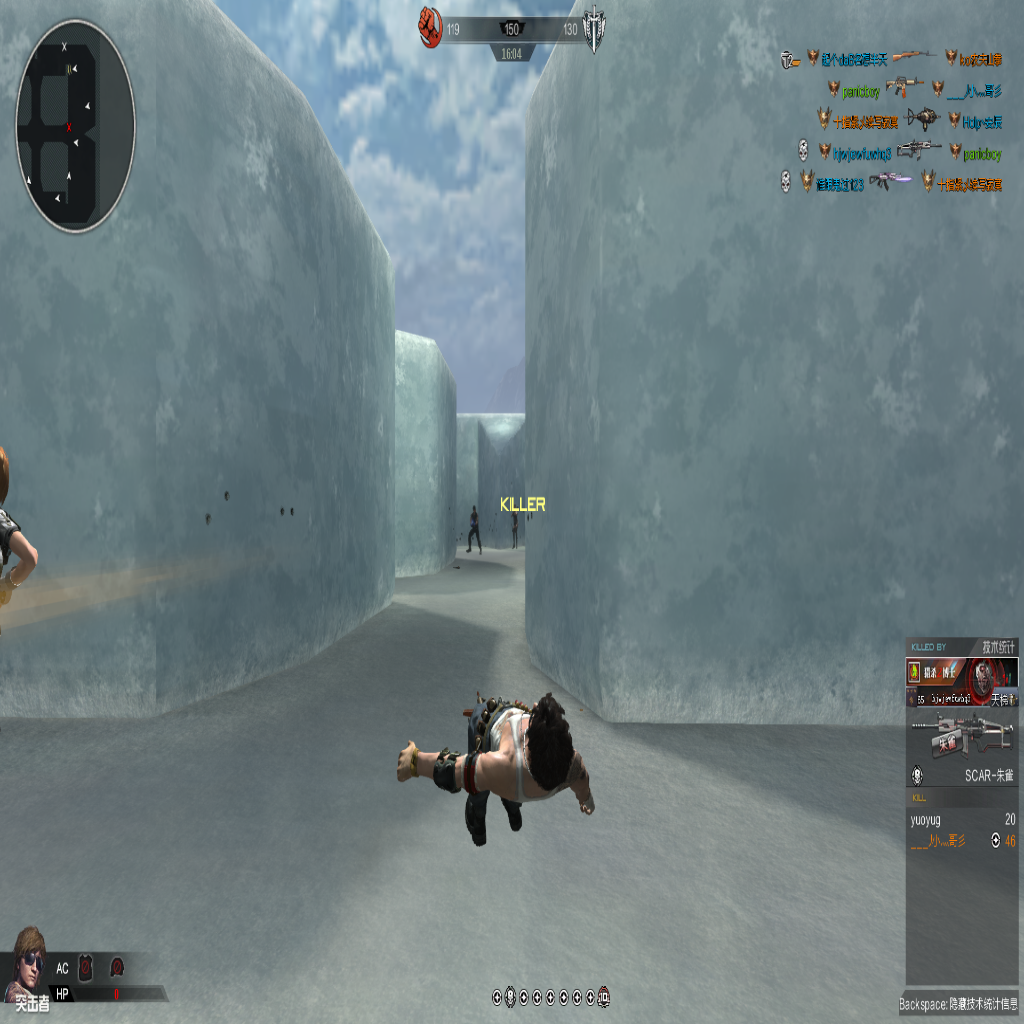ct: (467, 504, 482, 553), (510, 507, 517, 549)
tt: (0, 395, 36, 711)
